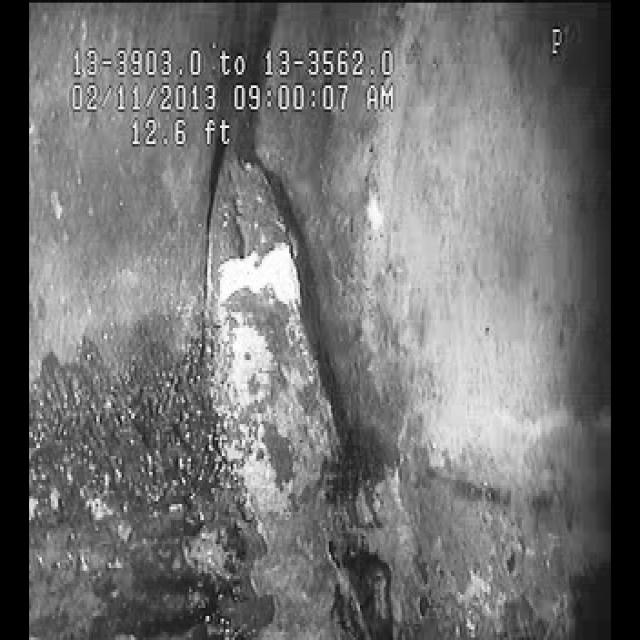Fracture: (176, 156, 461, 564)
